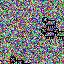sheep: (42, 16, 56, 28), (40, 28, 55, 39), (53, 27, 64, 39), (9, 56, 25, 64)
